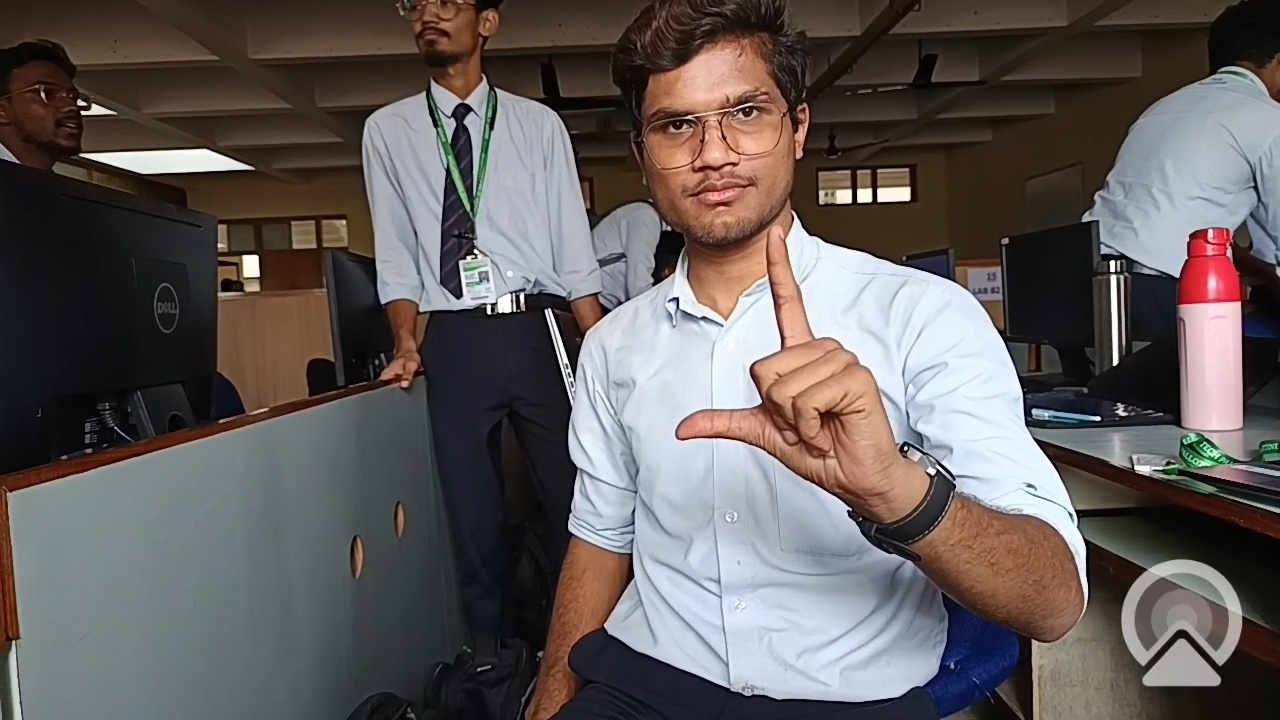L: (662, 229, 942, 518)
